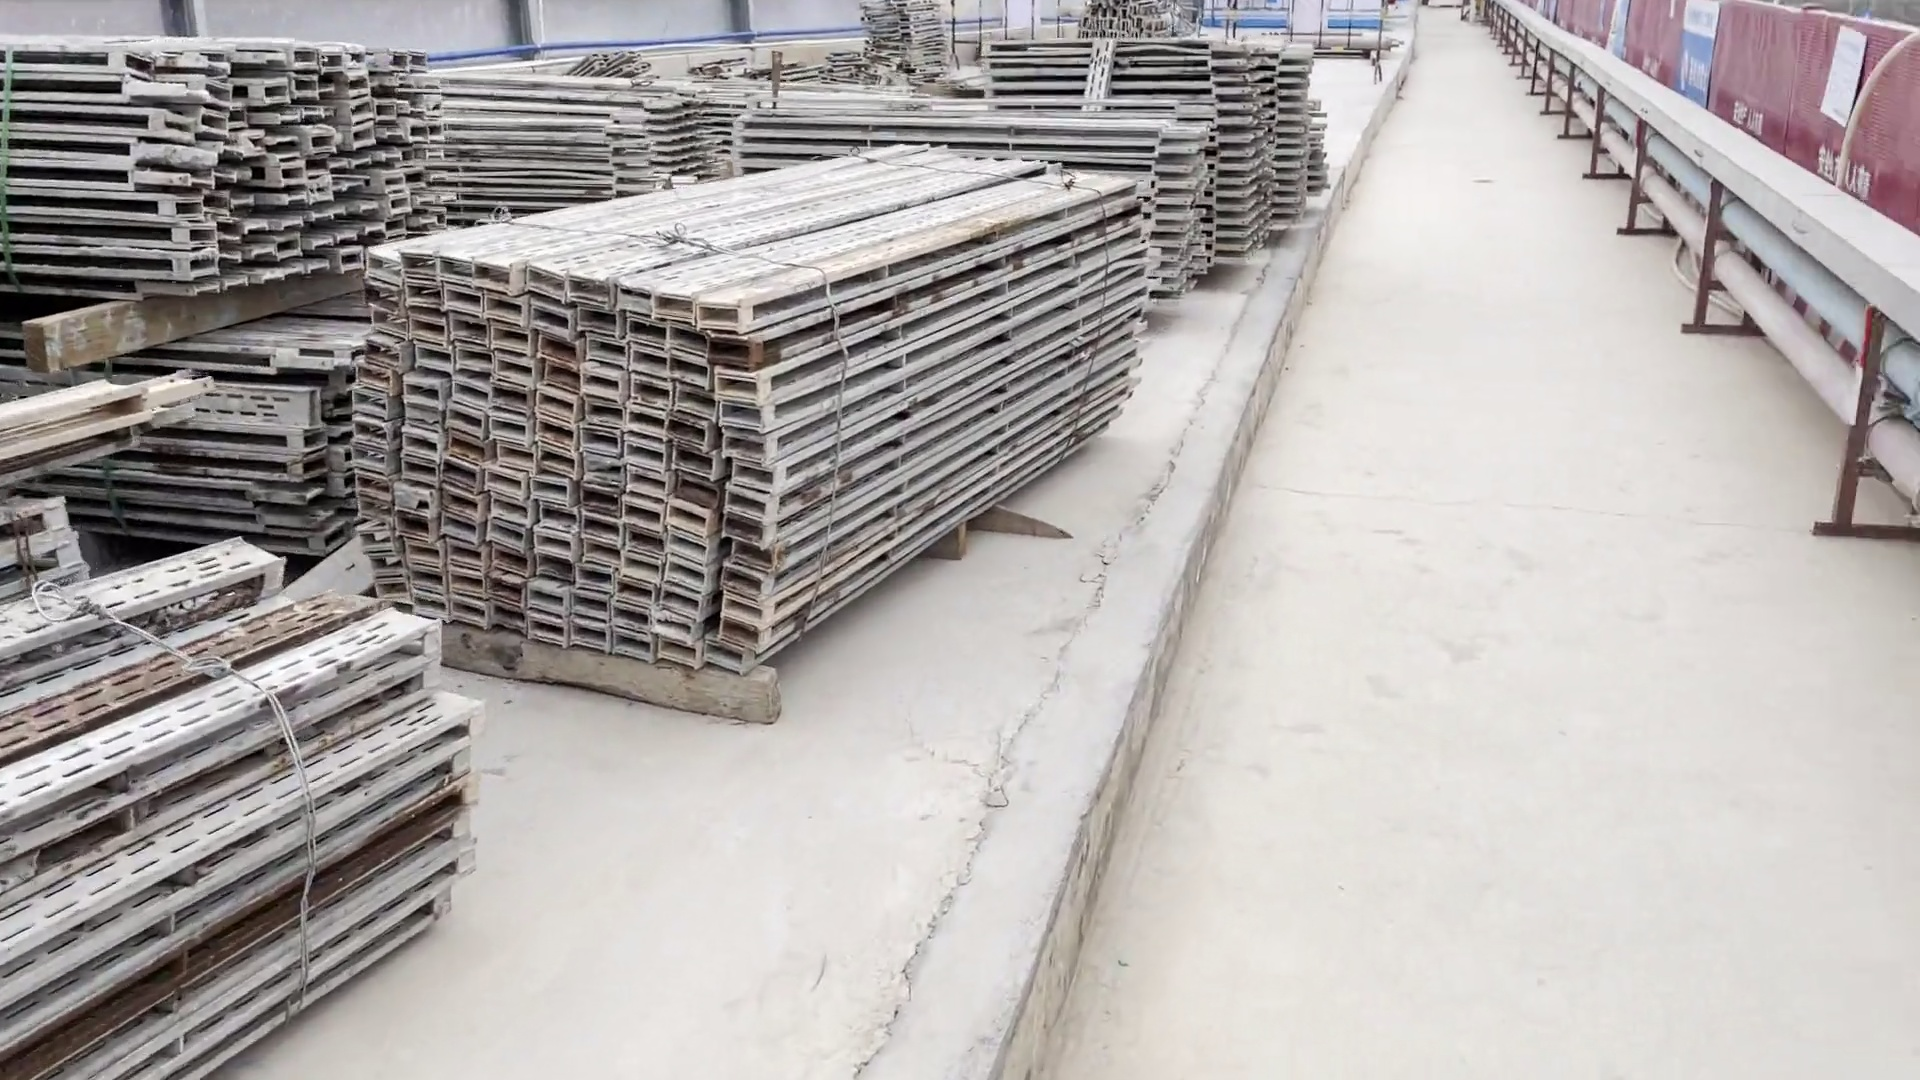fence: (1534, 1, 1920, 255), (949, 4, 1396, 76)
slogan: (1804, 15, 1895, 154), (1663, 4, 1738, 123), (1596, 5, 1644, 58)
